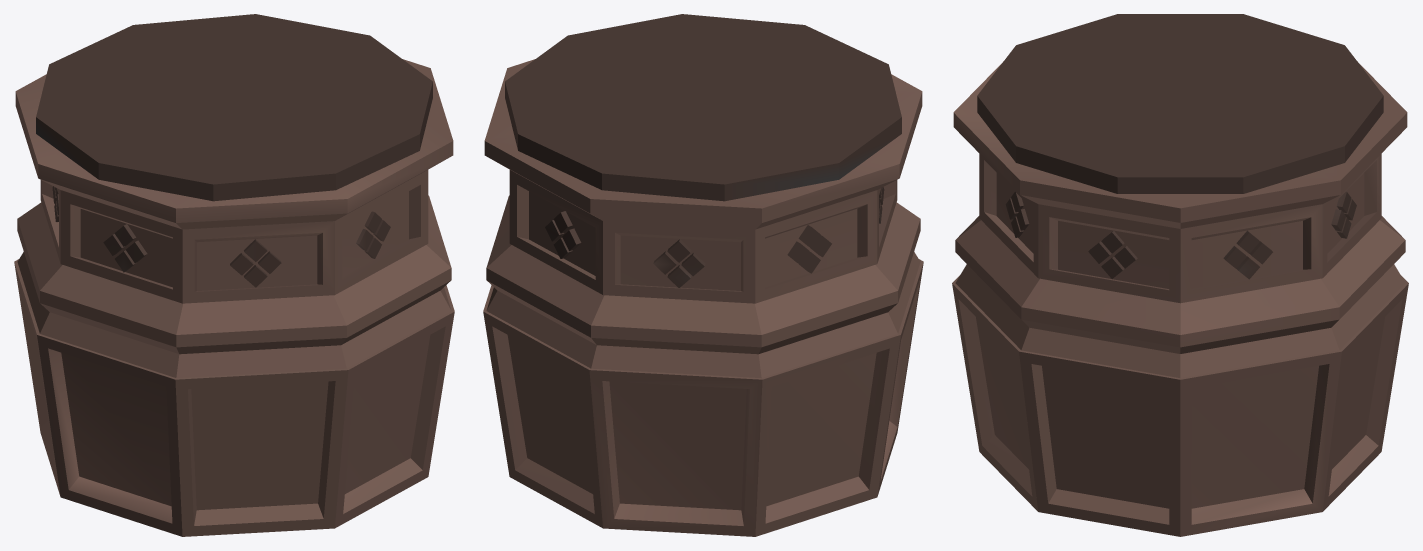
The model's file is well3.fbx.
3 renders of one model, left to right at view 1: azimuth 30°, elevation 25°; view 2: azimuth 150°, elevation 25°; view 3: azimuth 270°, elevation 25°, orthographic.
Parts seen in each view (by area): view 1: Cylinder.005; view 2: Cylinder.005; view 3: Cylinder.005.
Part boxes in pixels (x1,y1,x2,y2): Cylinder.005: [14, 14, 454, 536]; Cylinder.005: [483, 14, 923, 536]; Cylinder.005: [952, 14, 1408, 536].
Bounding box in the file's own units: 141 × 121 × 141.
